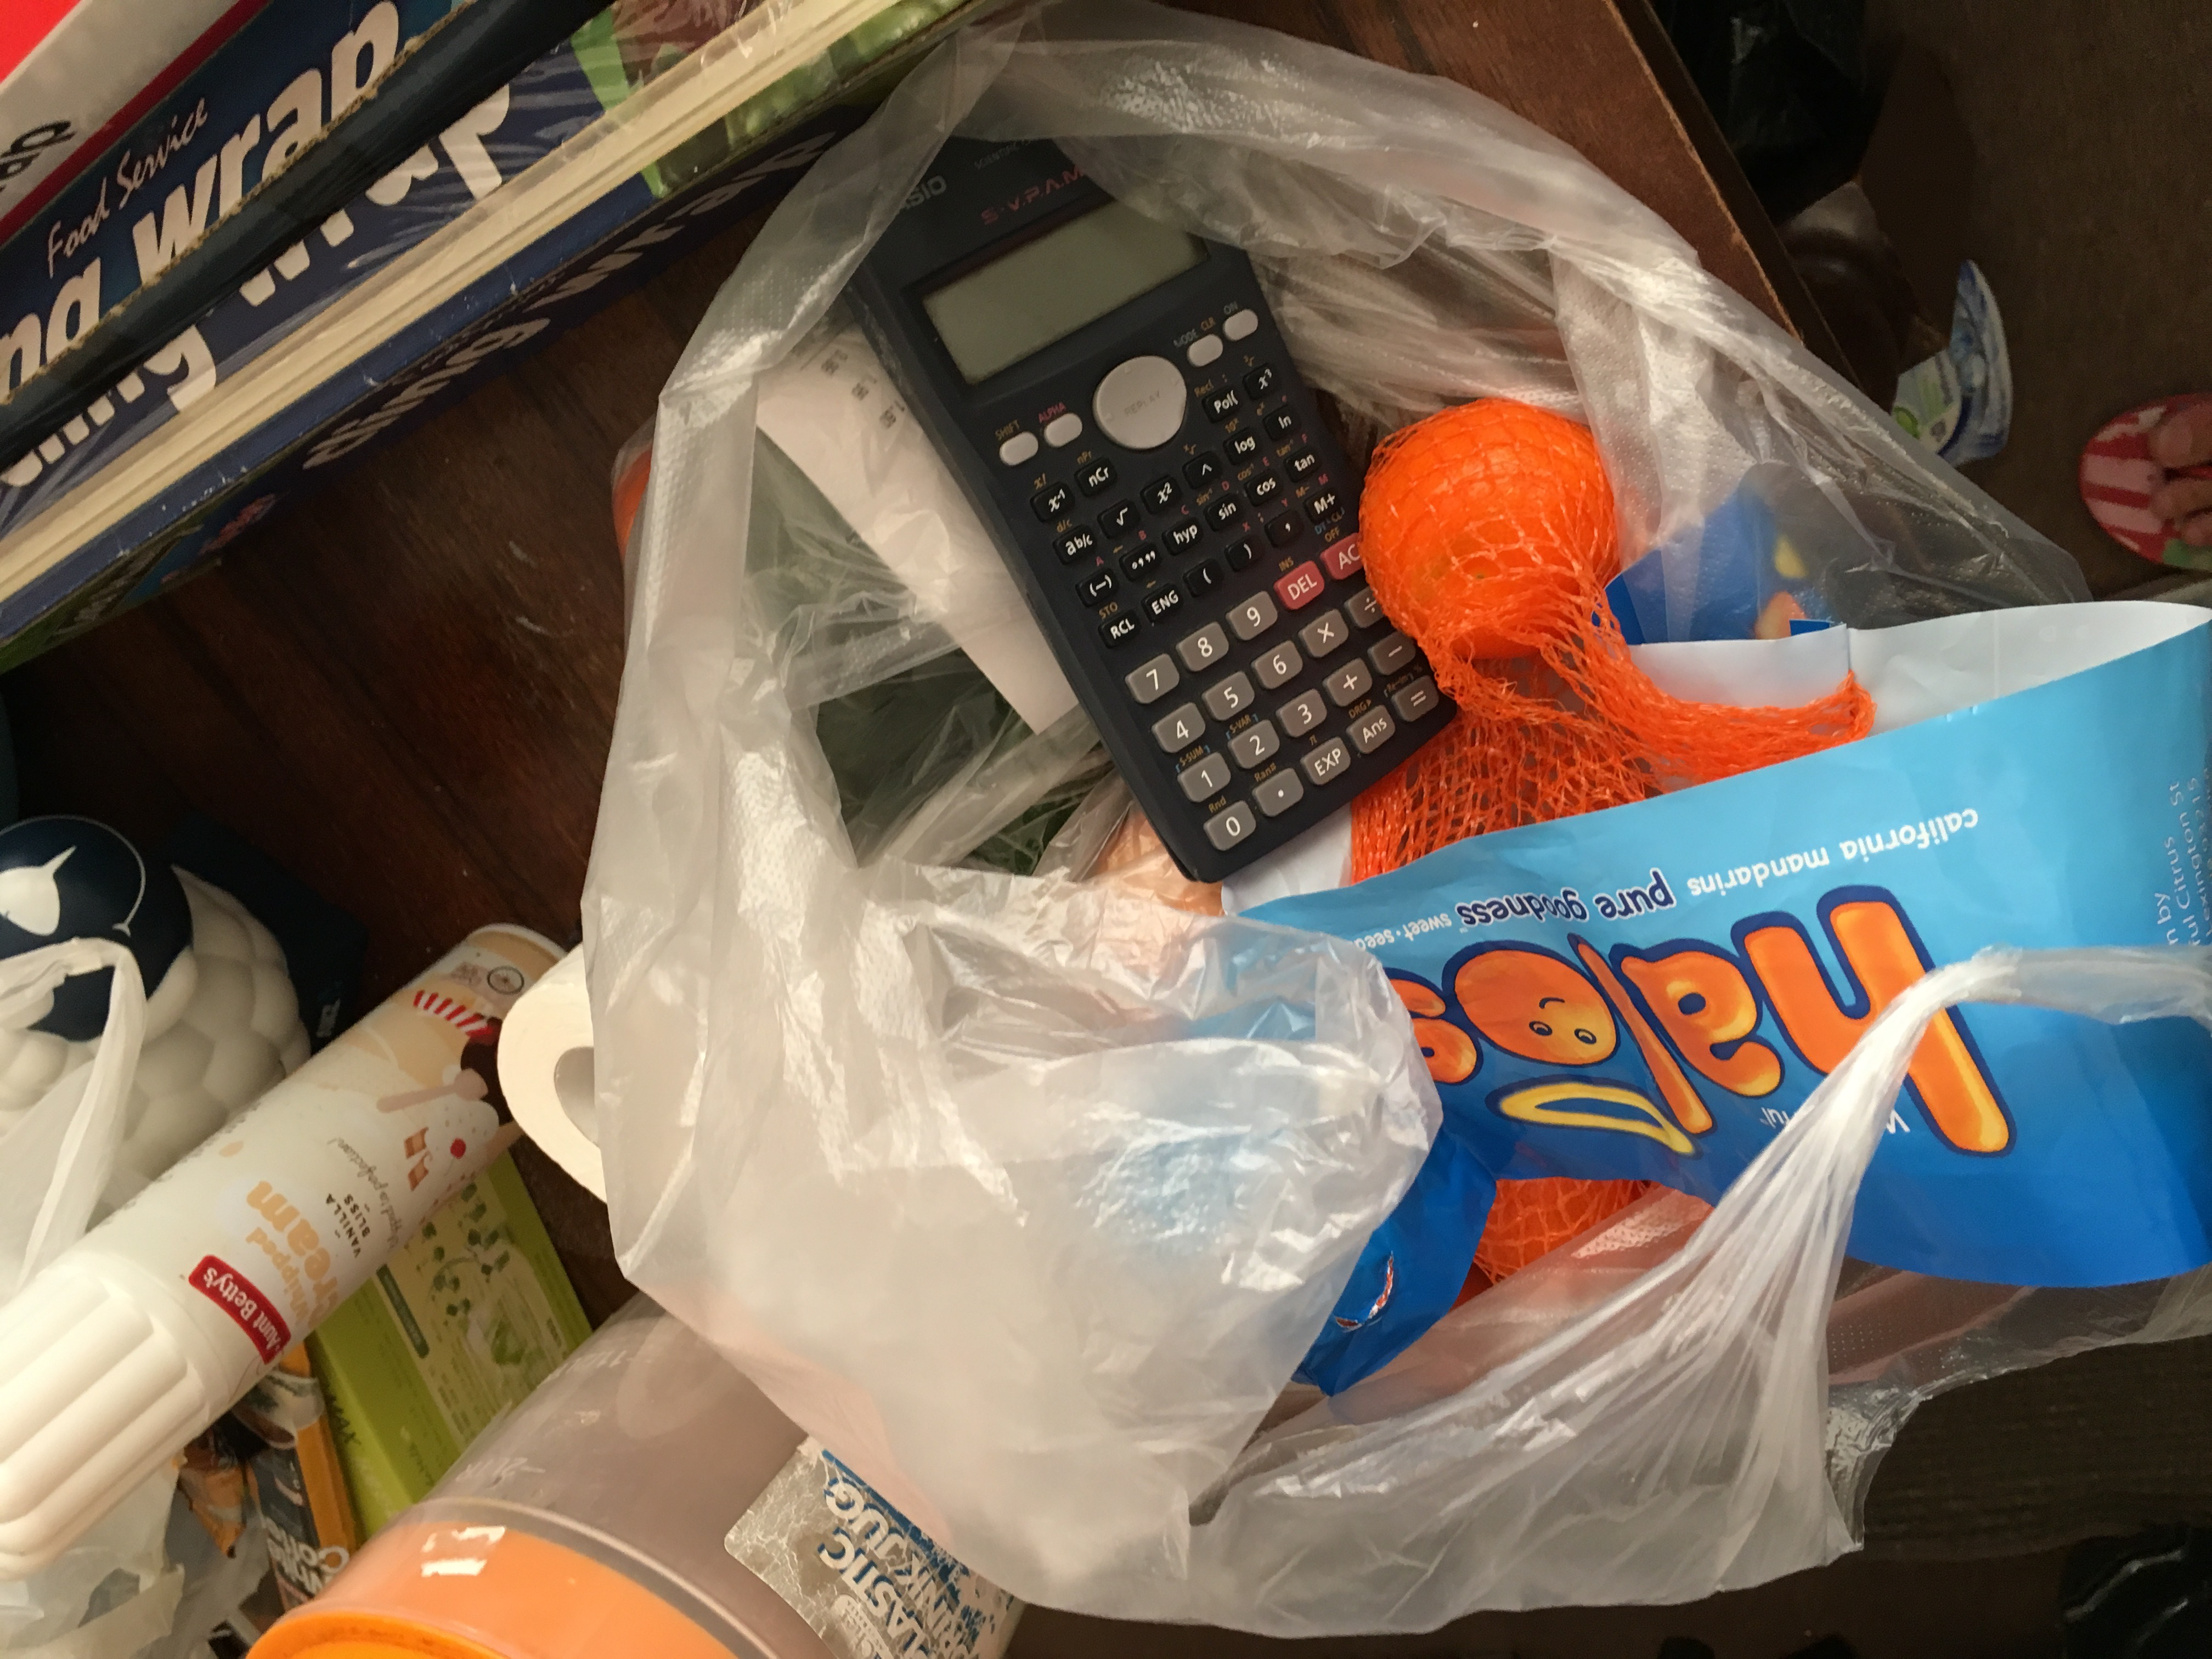Calculator: (801, 124, 1470, 884)
